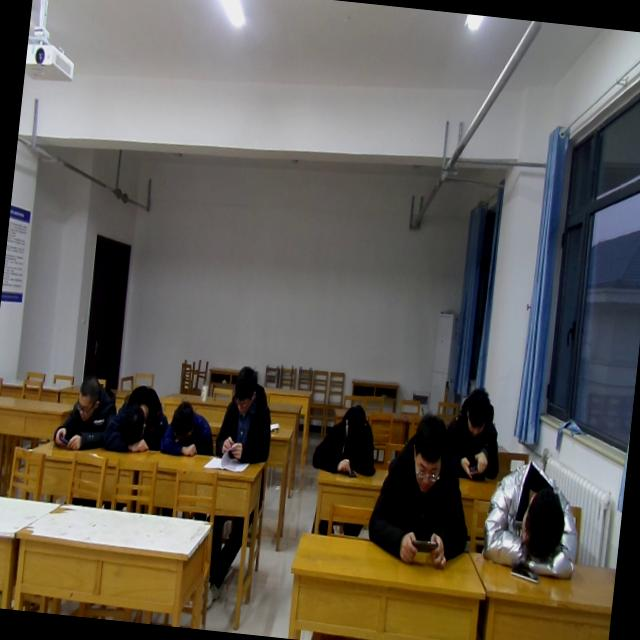bow: (477, 449, 587, 584), (49, 366, 120, 458), (308, 396, 382, 481), (102, 379, 174, 455), (156, 396, 220, 463)
down: (403, 408, 452, 499), (70, 368, 105, 423), (228, 361, 262, 416), (458, 386, 492, 440), (338, 399, 370, 449)
sit: (362, 402, 483, 572), (440, 382, 508, 488), (213, 359, 279, 467)
